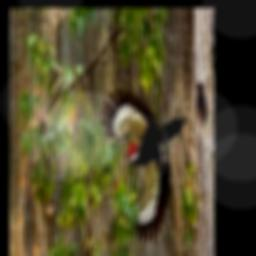Woodpecker: (98, 85, 187, 241)
